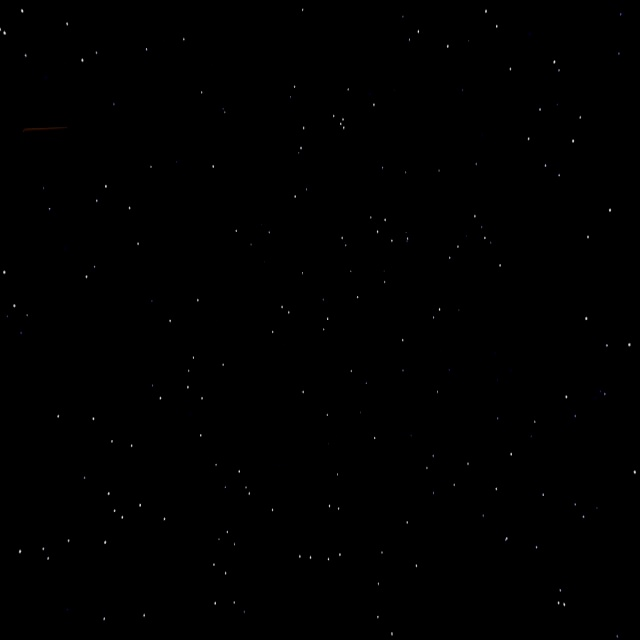satellite: (5, 51, 84, 160)
